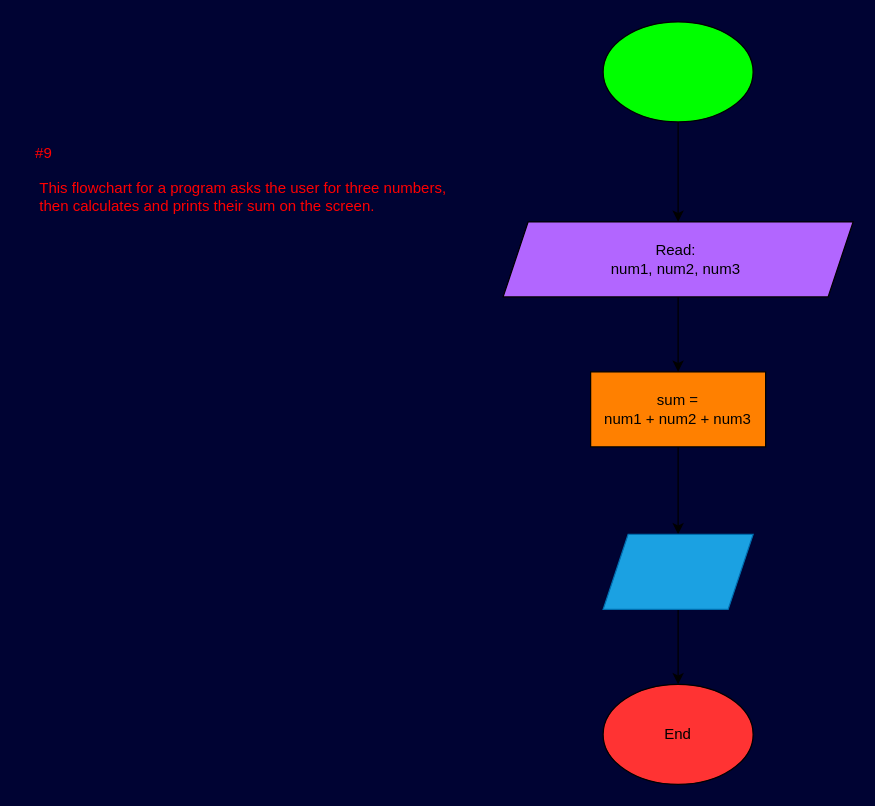
Image size: 875x806. Some labels were removed from this diagram. The centre of each missing label's shape, as x and y in pixels:
"Print: sum" goes at (x=677, y=571).
"Start" goes at (x=677, y=71).
